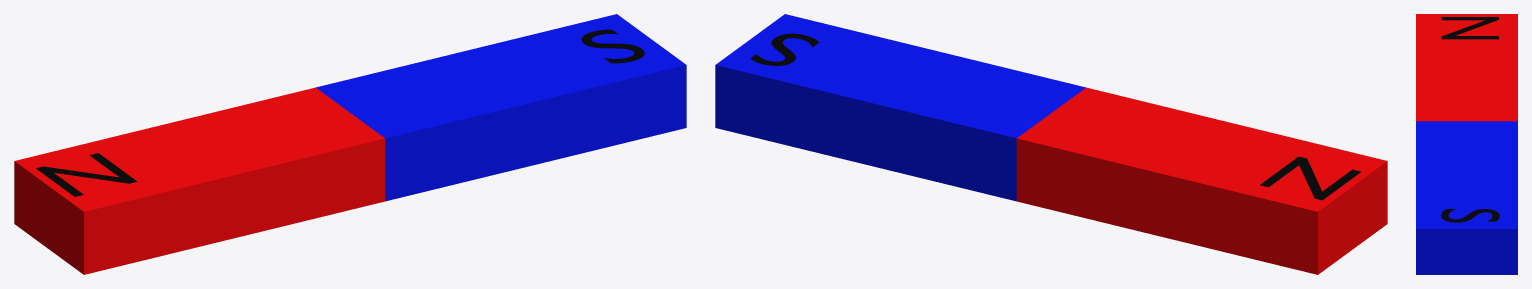
The model's file is Magnet2.fbx.
The picture shows the model from 3 angles, left to right: view 1: azimuth 30°, elevation 25°; view 2: azimuth 150°, elevation 25°; view 3: azimuth 270°, elevation 25°; orthographic projection. The views are drawn at different scales.
Visible parts, largest first — view 1: Cube, Cube.001, Text, Text.001; view 2: Cube, Cube.001, Text, Text.001; view 3: Cube.001, Cube, Text, Text.001.
Part boxes in pixels (x1=…): Cube: x1=14, y1=87, x2=385, y2=274; Cube.001: x1=316, y1=14, x2=686, y2=201; Text: x1=36, y1=153, x2=136, y2=196; Text.001: x1=581, y1=29, x2=644, y2=63; Cube: x1=1016, y1=87, x2=1387, y2=274; Cube.001: x1=715, y1=14, x2=1085, y2=201; Text: x1=1260, y1=156, x2=1361, y2=200; Text.001: x1=750, y1=33, x2=819, y2=65; Cube.001: x1=1416, y1=121, x2=1517, y2=274; Cube: x1=1416, y1=14, x2=1517, y2=121; Text: x1=1441, y1=17, x2=1498, y2=39; Text.001: x1=1441, y1=209, x2=1499, y2=222.
Bounding box in the file's own units: 40 × 4.01 × 8.
